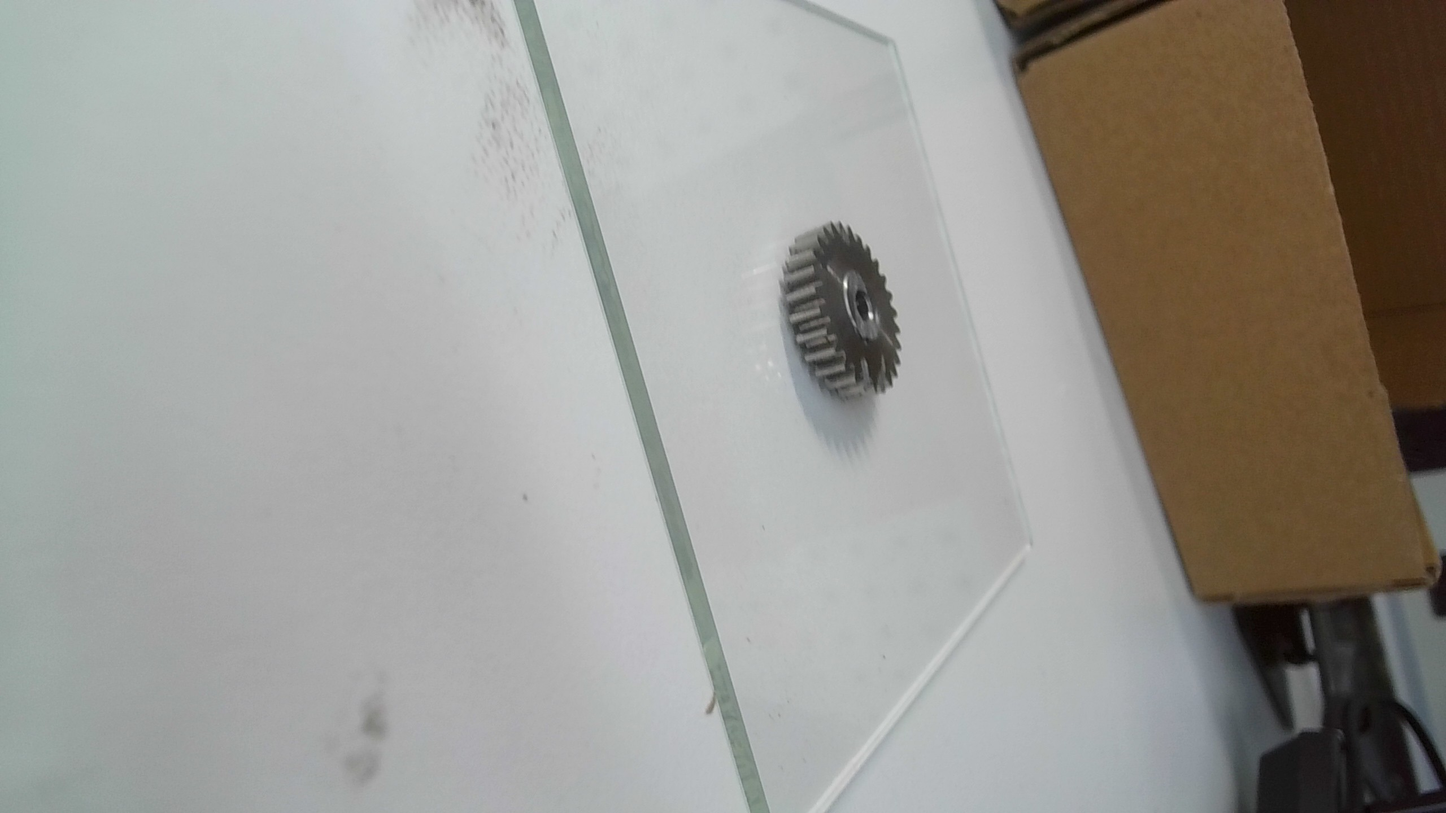gear: (782, 218, 901, 405)
